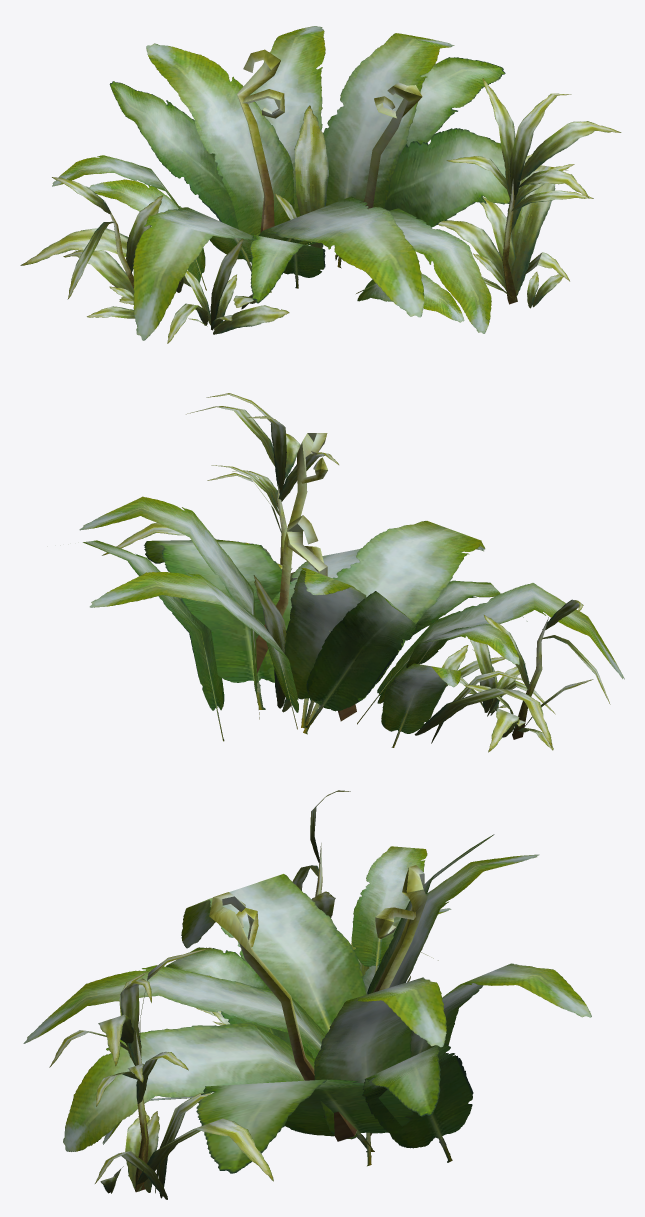
Rendered from snow_cao_02.fbx.
3 renders of one model, top to bottom at view 1: azimuth 30°, elevation 25°; view 2: azimuth 150°, elevation 25°; view 3: azimuth 270°, elevation 25°, orthographic. The views are drawn at different scales.
Parts seen in each view (by area): view 1: snow_cao2; view 2: snow_cao2; view 3: snow_cao2.
Boxes of the visible parts, bbox=[...] form: snow_cao2: bbox=[20, 26, 621, 343]; snow_cao2: bbox=[79, 393, 624, 752]; snow_cao2: bbox=[23, 790, 591, 1199].
Size of the model in its own units: 478 by 215 by 417.
